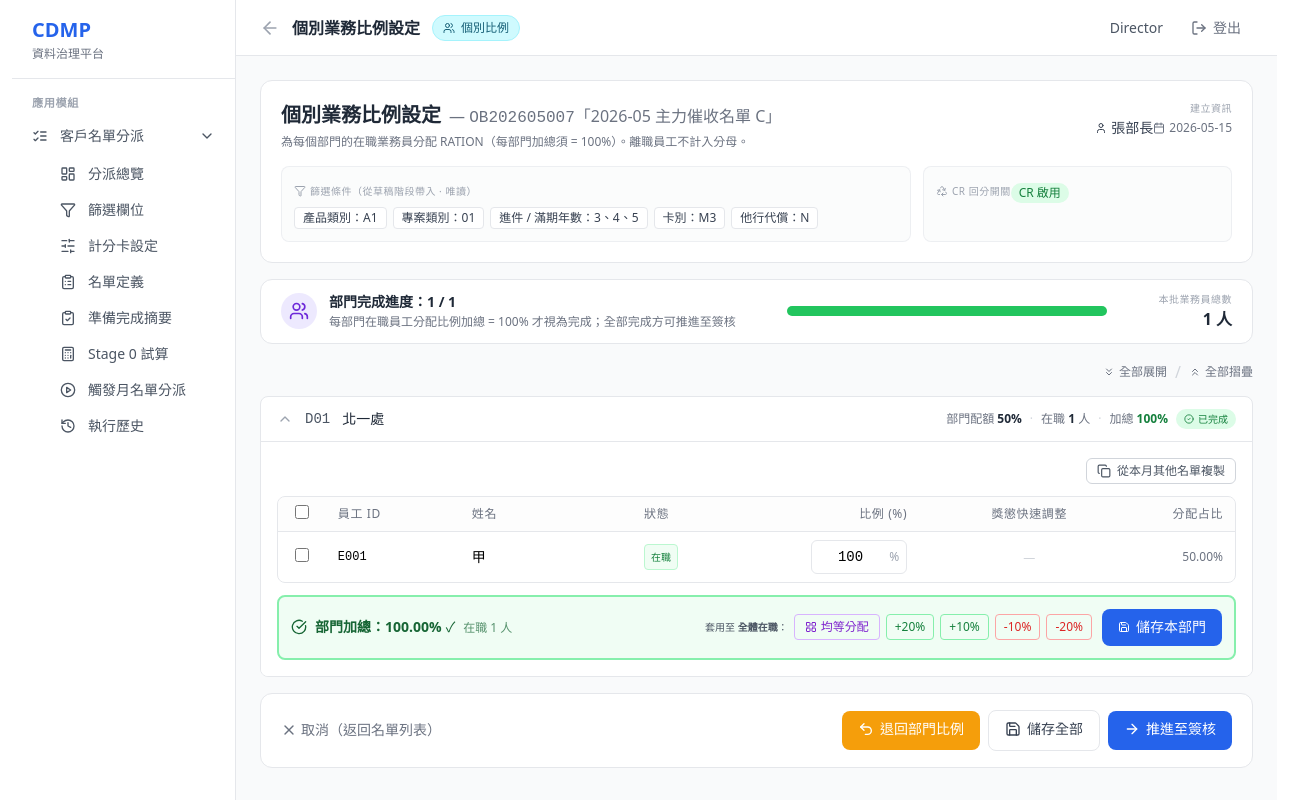
Scenario: PersonnelRatioConfigPage — F084 v2.0 Auto-Advance（FE） › TC-F084-FE-004：月名單分派 guard 跳過 → fallback 推進按鈕 disabled
The width and height of the screenshot is (1292, 800).
Click the button with test id "btn-save-all" at (1044, 730), box [988,710,1100,750]
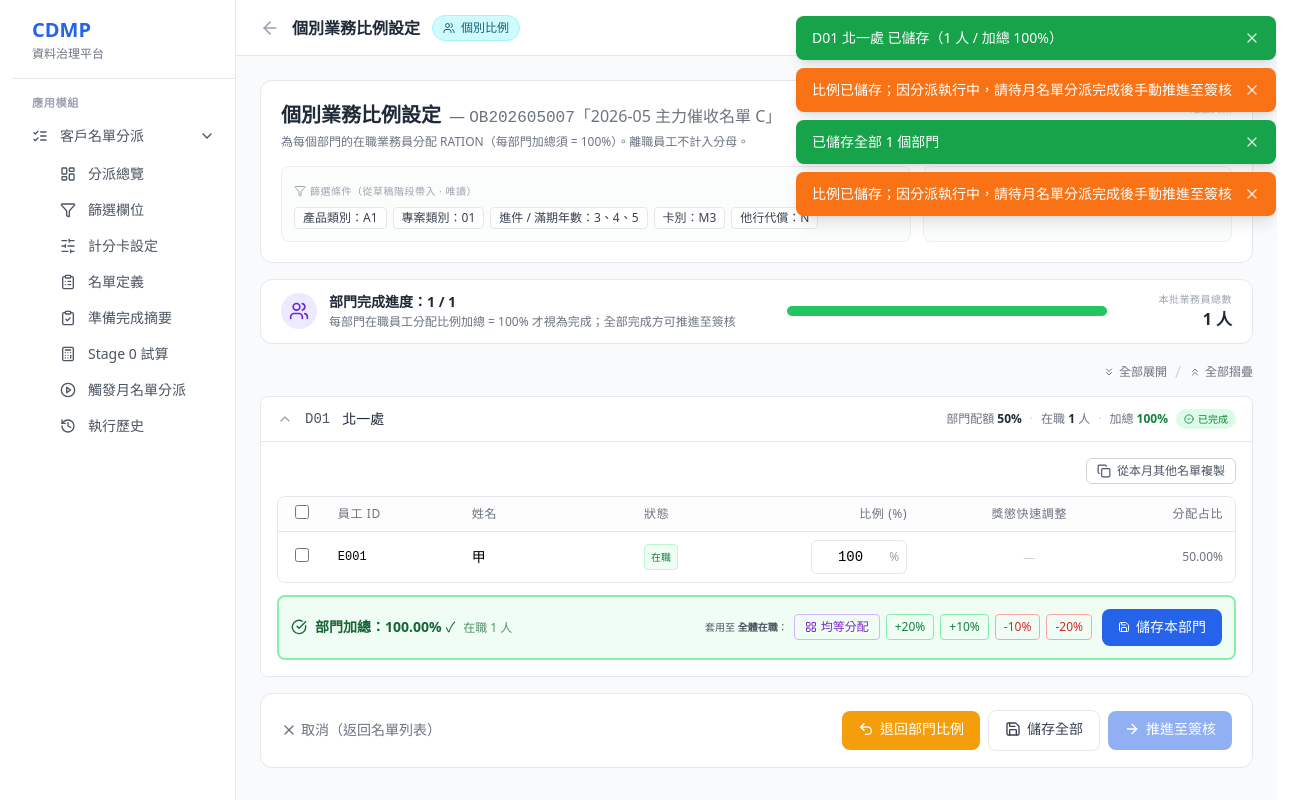
Expected: the button with test id "btn-advance-approval" is disabled, [1108,710,1232,750]
